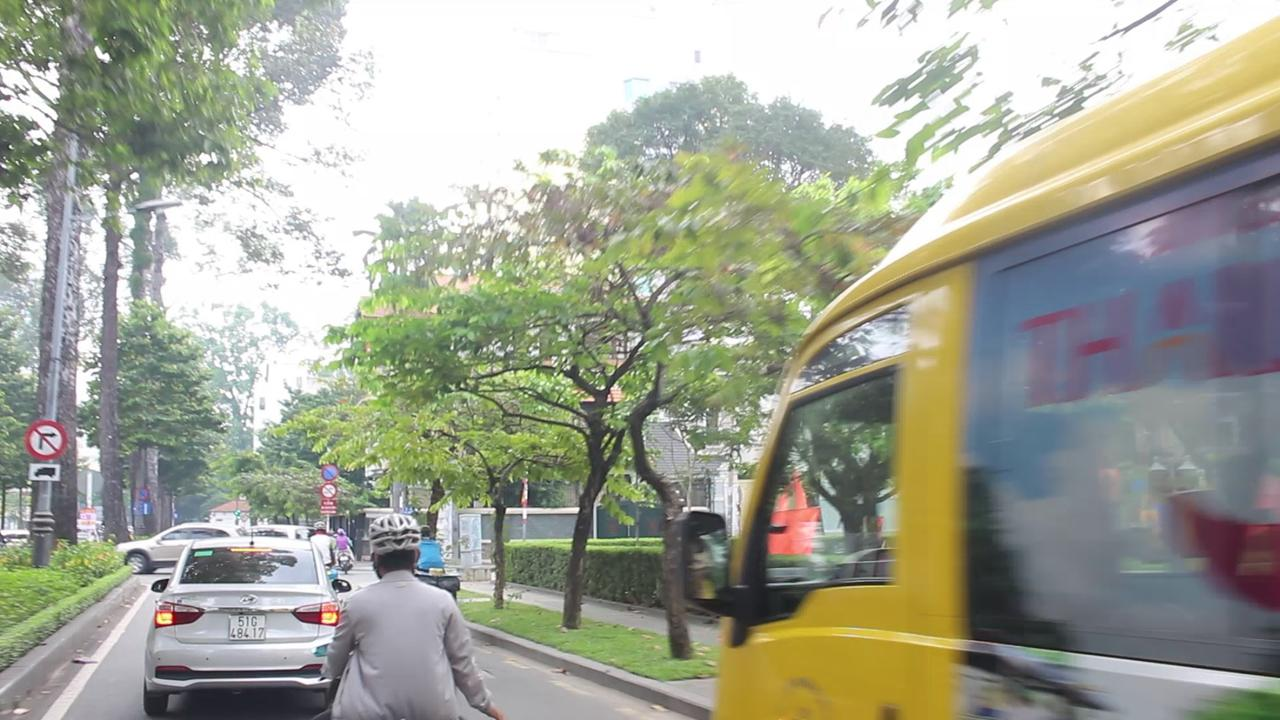P.112: (24, 420, 66, 459)
